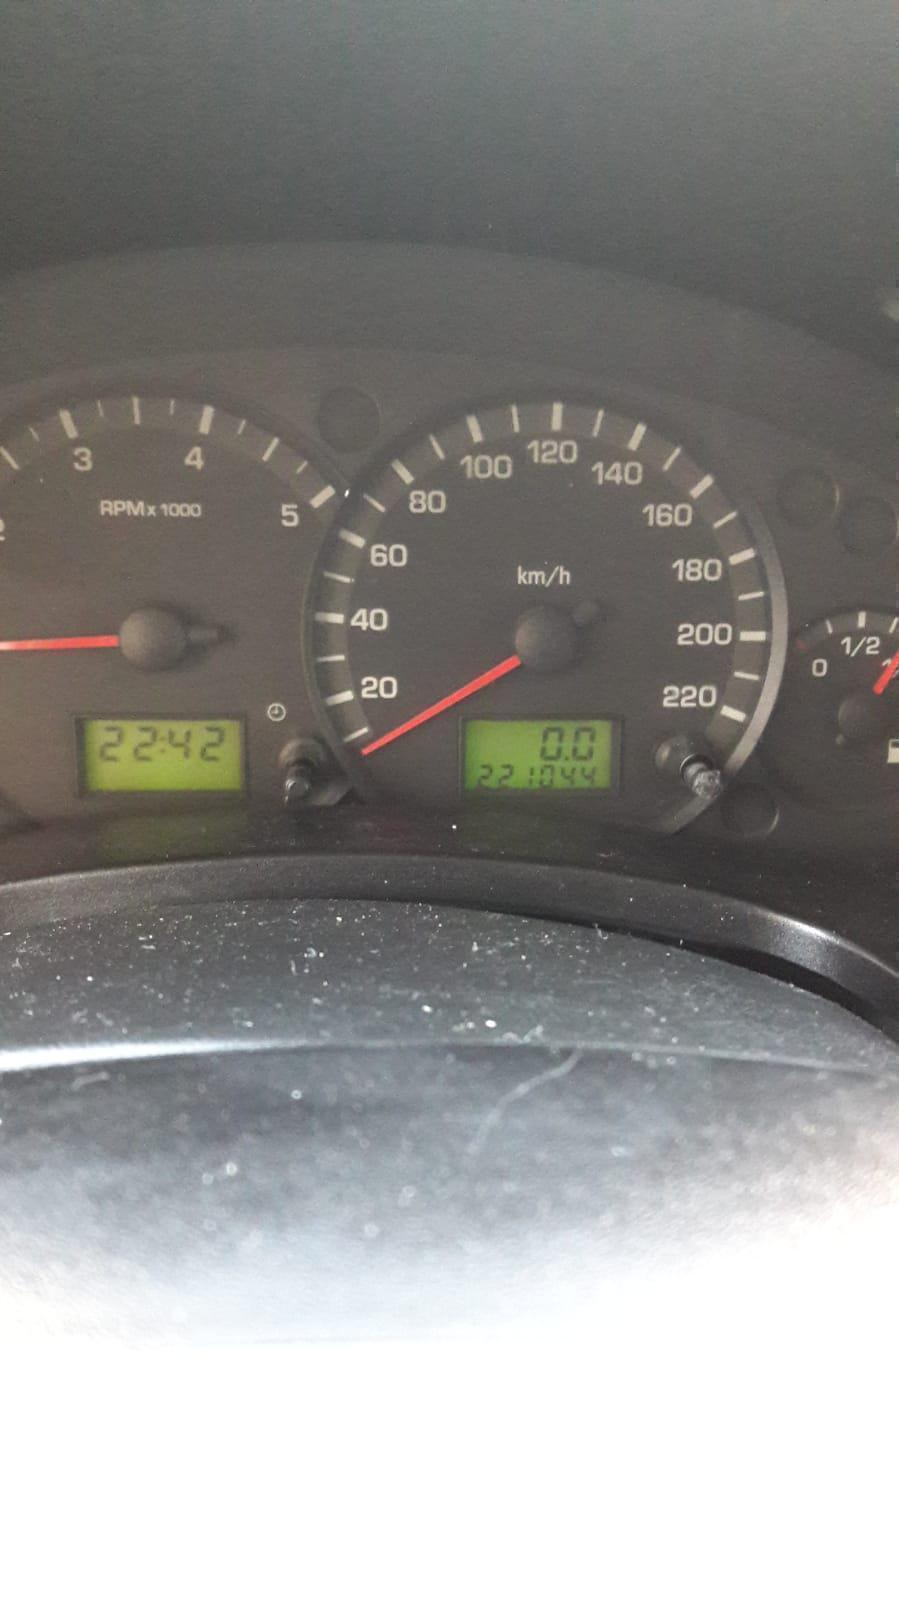,: (563, 753, 569, 762)
0: (571, 726, 595, 761), (539, 726, 562, 761), (539, 763, 554, 789)
1: (526, 764, 535, 789)
2: (476, 763, 493, 790), (497, 763, 514, 789)
4: (560, 764, 576, 786), (580, 764, 596, 786)
odometer: (457, 713, 623, 795)
